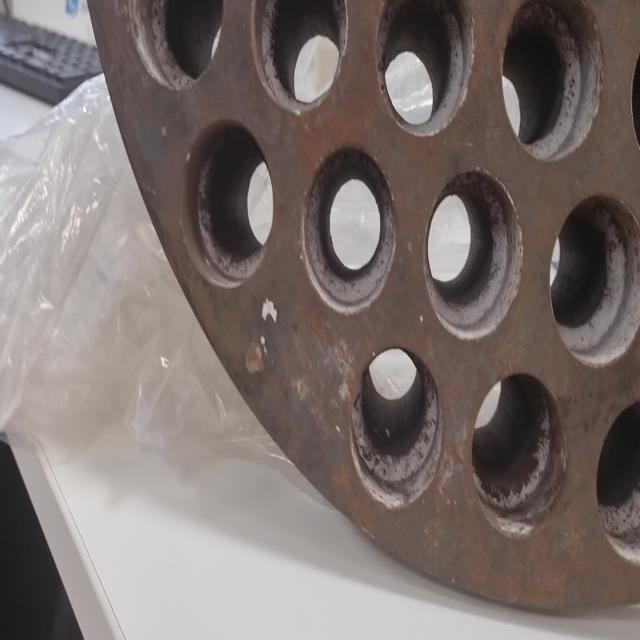Hole: (423, 167, 524, 341), (500, 0, 604, 163), (470, 367, 569, 538), (301, 143, 397, 314), (549, 188, 640, 368), (183, 118, 274, 288), (350, 344, 442, 510), (374, 0, 476, 138), (251, 0, 348, 116), (128, 0, 225, 90), (596, 396, 640, 568)
